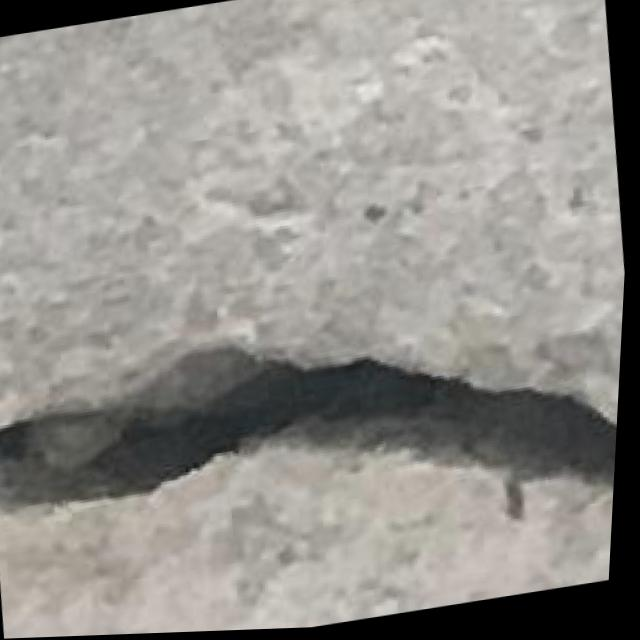Crack: (0, 260, 629, 617)
